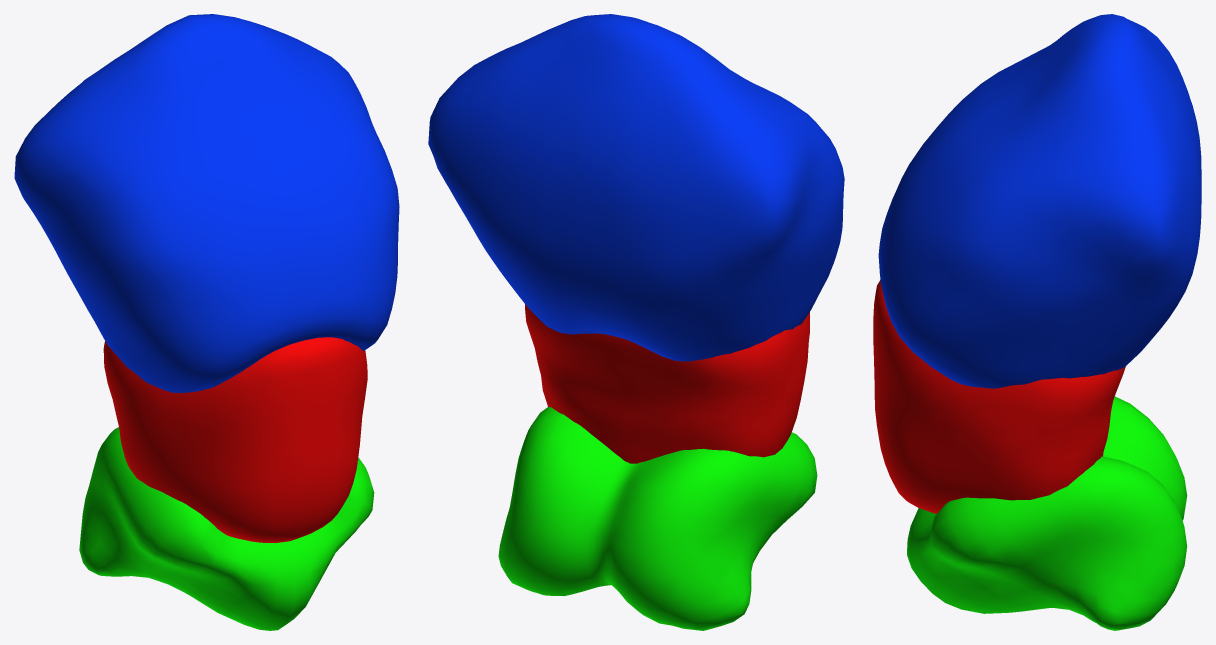
Rendered from TorsoGeo.fbx.
The picture shows the model from 3 angles, left to right: view 1: azimuth 30°, elevation 25°; view 2: azimuth 150°, elevation 25°; view 3: azimuth 270°, elevation 25°; orthographic projection. The views are drawn at different scales.
Parts seen in each view (by area): view 1: Chest_copy1, Belly_copy1, Hip; view 2: Chest_copy1, Hip, Belly_copy1; view 3: Chest_copy1, Hip, Belly_copy1.
Boxes of the visible parts, box(x1,y1,x2,y2) form: Chest_copy1: box(14, 14, 399, 392); Belly_copy1: box(103, 337, 367, 542); Hip: box(79, 427, 374, 630); Chest_copy1: box(428, 14, 844, 361); Hip: box(498, 407, 817, 630); Belly_copy1: box(525, 304, 809, 463); Chest_copy1: box(878, 14, 1201, 388); Hip: box(907, 396, 1187, 630); Belly_copy1: box(873, 280, 1125, 513).
Size of the model in its own units: 6.57 by 10.78 by 5.48.
